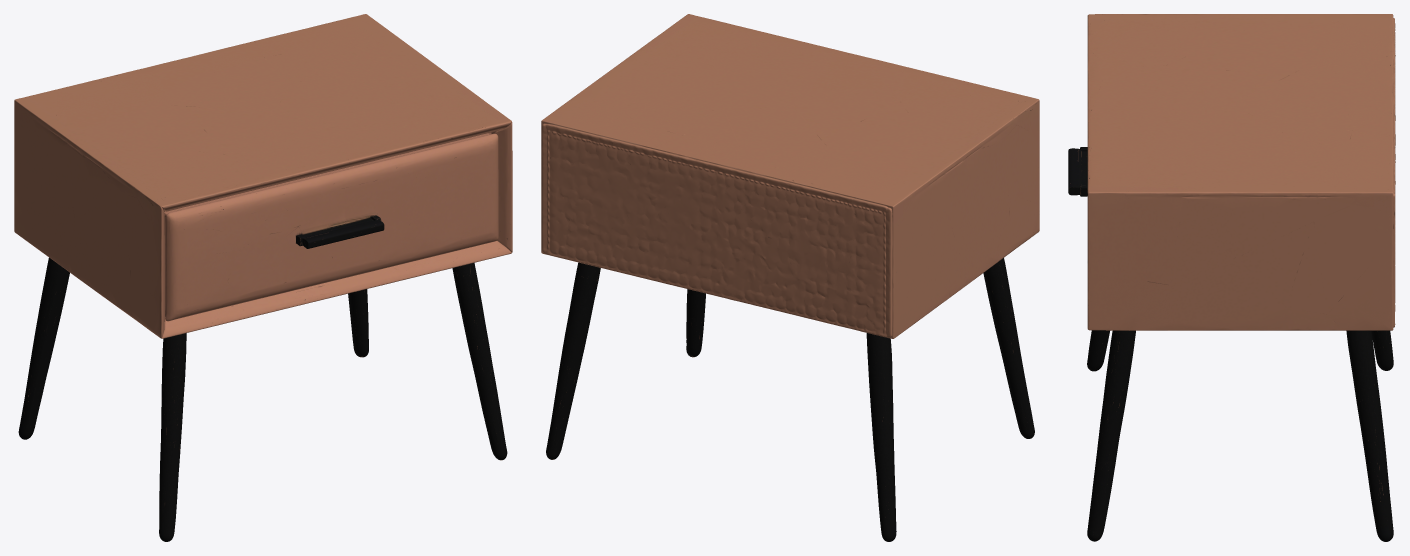
Rendered from meshy-05.glb.
3 renders of one model, left to right at view 1: azimuth 30°, elevation 25°; view 2: azimuth 150°, elevation 25°; view 3: azimuth 270°, elevation 25°, orthographic. The views are drawn at different scales.
Visible parts, largest first — view 1: RealScale; view 2: RealScale; view 3: RealScale.
Part boxes in pixels (x1,y1,x2,y2): RealScale: [14, 14, 512, 541]; RealScale: [541, 14, 1039, 541]; RealScale: [1068, 14, 1395, 541].
Size of the model in its own units: 0.5984 by 0.55 by 0.4621.
Materials: 1 (1 with a texture image).
